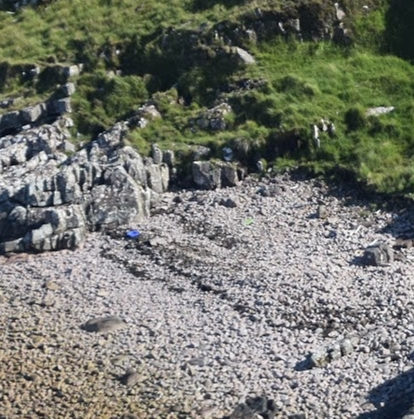white_in_green: (110, 213, 154, 251), (207, 136, 251, 174)
